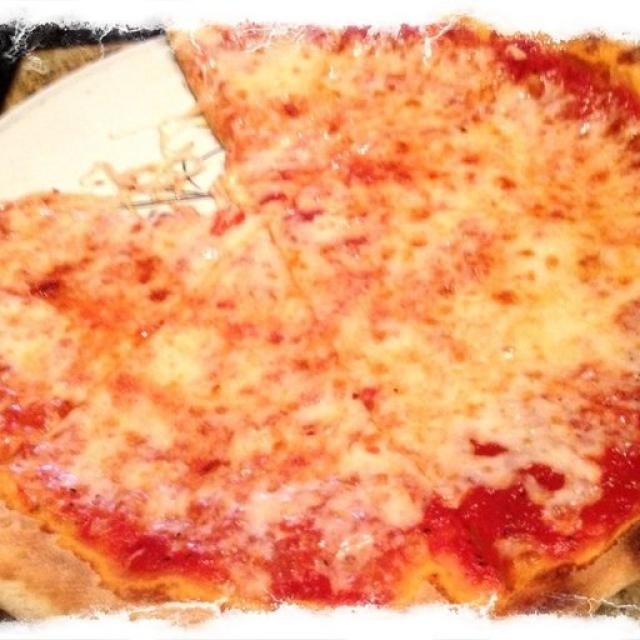Pizza: (0, 19, 640, 620)
